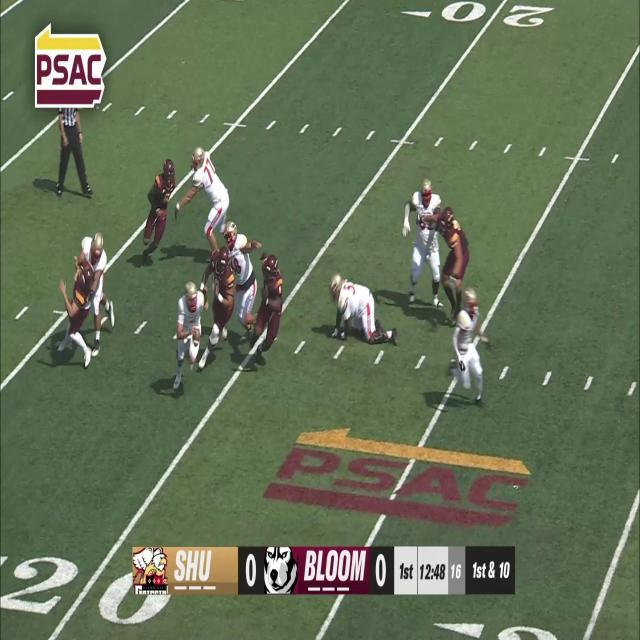football: (192, 323, 200, 348)
